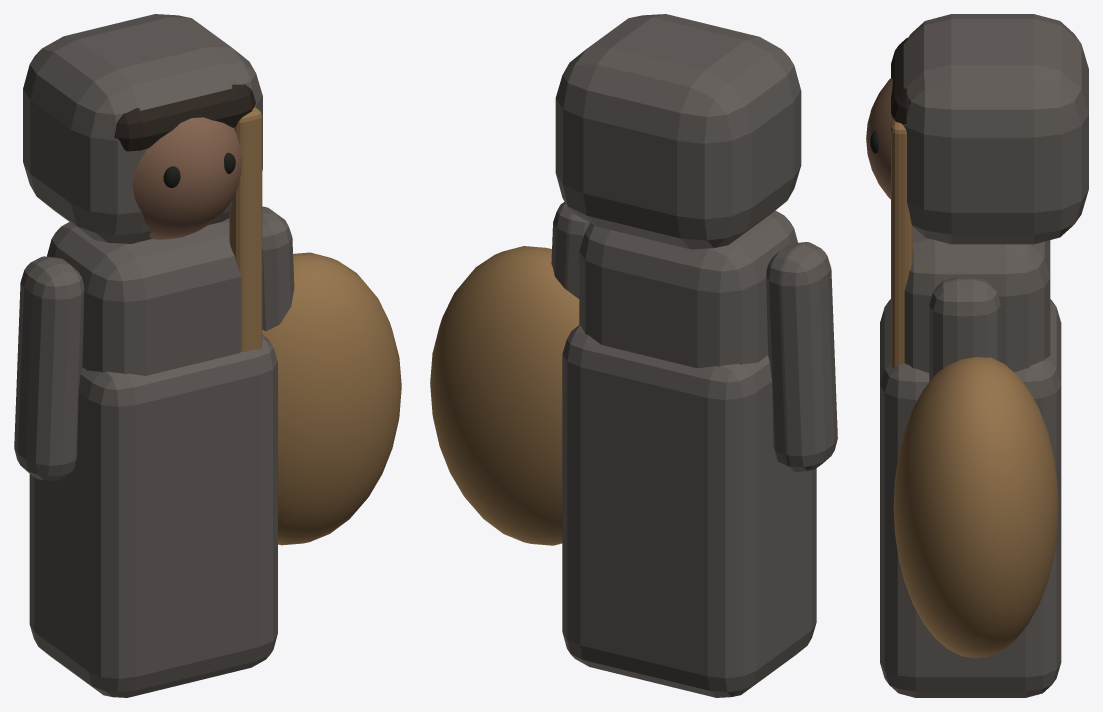
File: ooteeny_4177.glb
3 views of the same model, side by side, from view 1: azimuth 30°, elevation 25°; view 2: azimuth 150°, elevation 25°; view 3: azimuth 270°, elevation 25° (orthographic). The views are drawn at different scales.
Parts seen in each view (by area): view 1: Layered robe, Deep hood, Collector satchel, Fitted torso, Detailed arm, Head, Satchel strap, Hair, Detailed arm.001; view 2: Layered robe, Deep hood, Collector satchel, Fitted torso, Detailed arm, Detailed arm.001; view 3: Deep hood, Collector satchel, Layered robe, Fitted torso, Detailed arm.001, Satchel strap, Head, Hair.
Part boxes in pixels (x1,y1,x2,y2): Layered robe: (29, 334, 277, 697); Deep hood: (23, 14, 262, 243); Collector satchel: (262, 252, 401, 545); Fitted torso: (47, 218, 241, 375); Detailed arm: (14, 256, 84, 481); Head: (132, 117, 242, 239); Satchel strap: (229, 107, 262, 351); Hair: (114, 84, 255, 151); Detailed arm.001: (262, 206, 294, 331); Layered robe: (562, 325, 816, 697); Deep hood: (555, 14, 801, 249); Collector satchel: (430, 246, 579, 545); Fitted torso: (579, 210, 797, 368); Detailed arm: (766, 242, 837, 471); Detailed arm.001: (551, 202, 589, 298); Deep hood: (903, 14, 1088, 244); Collector satchel: (893, 357, 1058, 658); Layered robe: (880, 299, 1061, 697); Fitted torso: (904, 227, 1050, 372); Detailed arm.001: (929, 277, 1000, 381); Satchel strap: (891, 119, 912, 367); Head: (866, 78, 892, 199); Hair: (891, 38, 908, 124).
Bounding box in the file's own units: 1.62 × 2.5 × 0.81.
